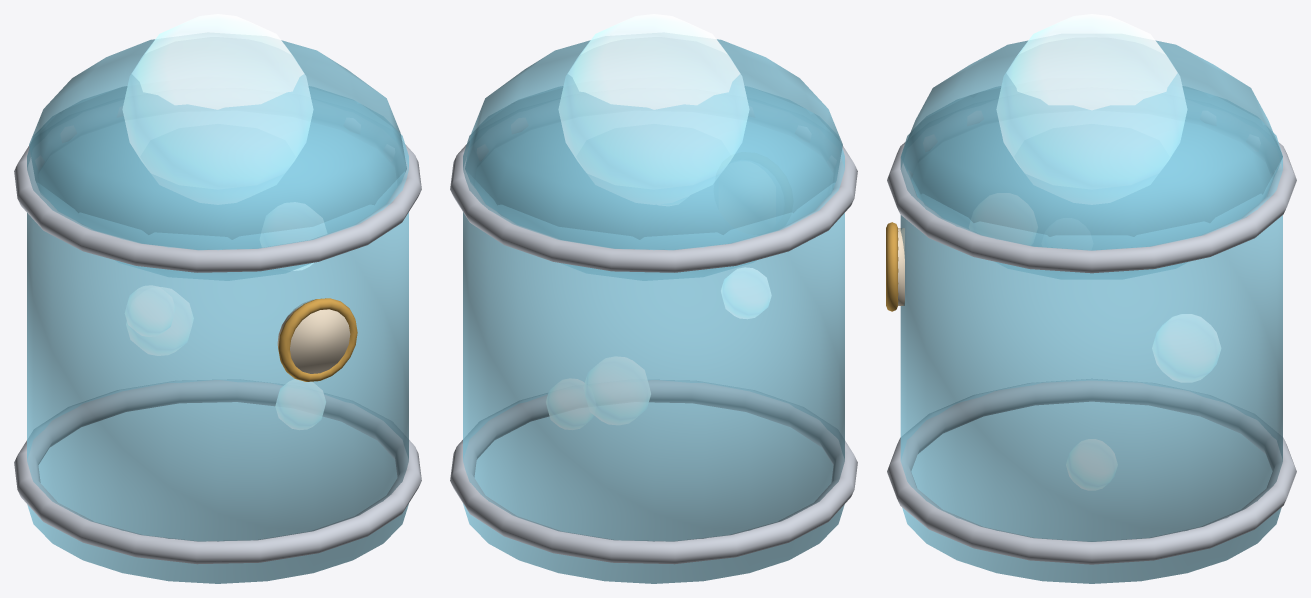
The model's file is opera_astronaut_tank.glb.
3 views of the same model, side by side, from view 1: azimuth 30°, elevation 25°; view 2: azimuth 150°, elevation 25°; view 3: azimuth 270°, elevation 25° (orthographic).
Parts seen in each view (by area): view 1: VisualMesh.004; view 2: VisualMesh.004; view 3: VisualMesh.004.
Boxes of the visible parts, x1,y1,x2,y2 form: VisualMesh.004: (14, 14, 421, 583); VisualMesh.004: (450, 14, 857, 583); VisualMesh.004: (886, 14, 1296, 583).
Size of the model in its own units: 4.72 by 6.1 by 4.73.
